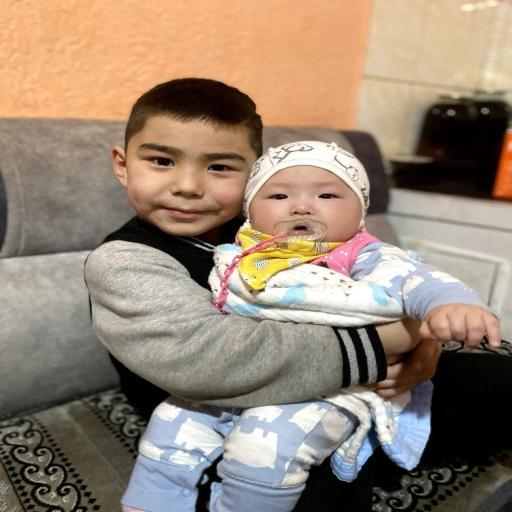crosswalk: (86, 75, 512, 512)
hole: (0, 118, 512, 512)
